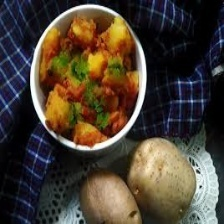sabzi: (39, 12, 141, 145)
